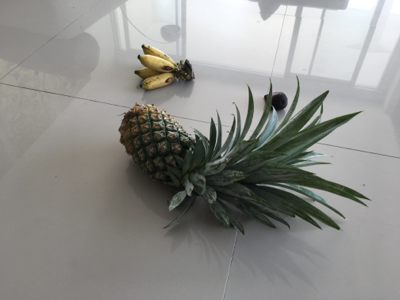banana: (135, 44, 196, 92)
pineapple: (120, 75, 373, 239)
snake fruit: (262, 89, 289, 112)
